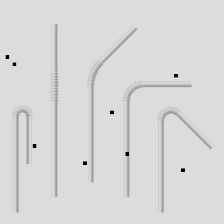drinking_straw: (118, 73, 194, 200), (83, 21, 141, 186), (152, 102, 217, 217), (8, 100, 38, 216), (47, 18, 62, 202)
